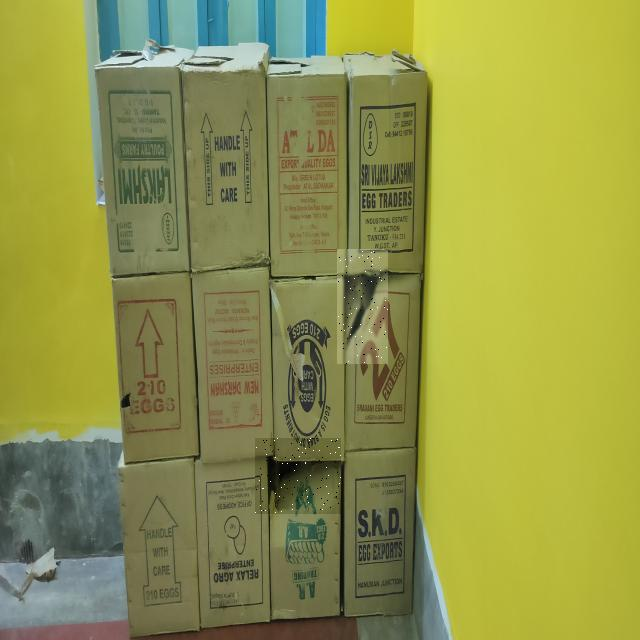squeeze: (255, 438, 341, 513), (338, 250, 388, 364)
